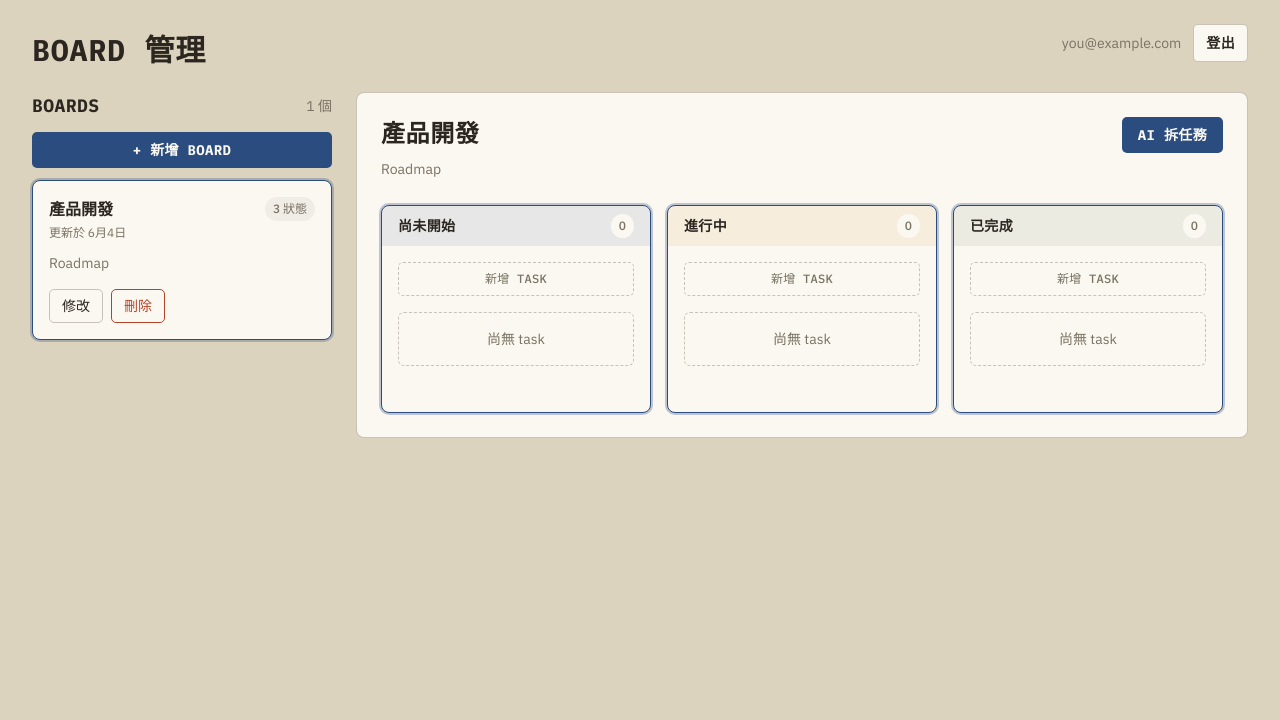
Test: BoardPage integration › creates a task in a board status column and saves it to local storage
Expected: the 1st heading "產品開發" is shown, [381,117,479,149]
Click the button "新增 task" below "尚未開始" at (516, 279), box [398,262,634,296]
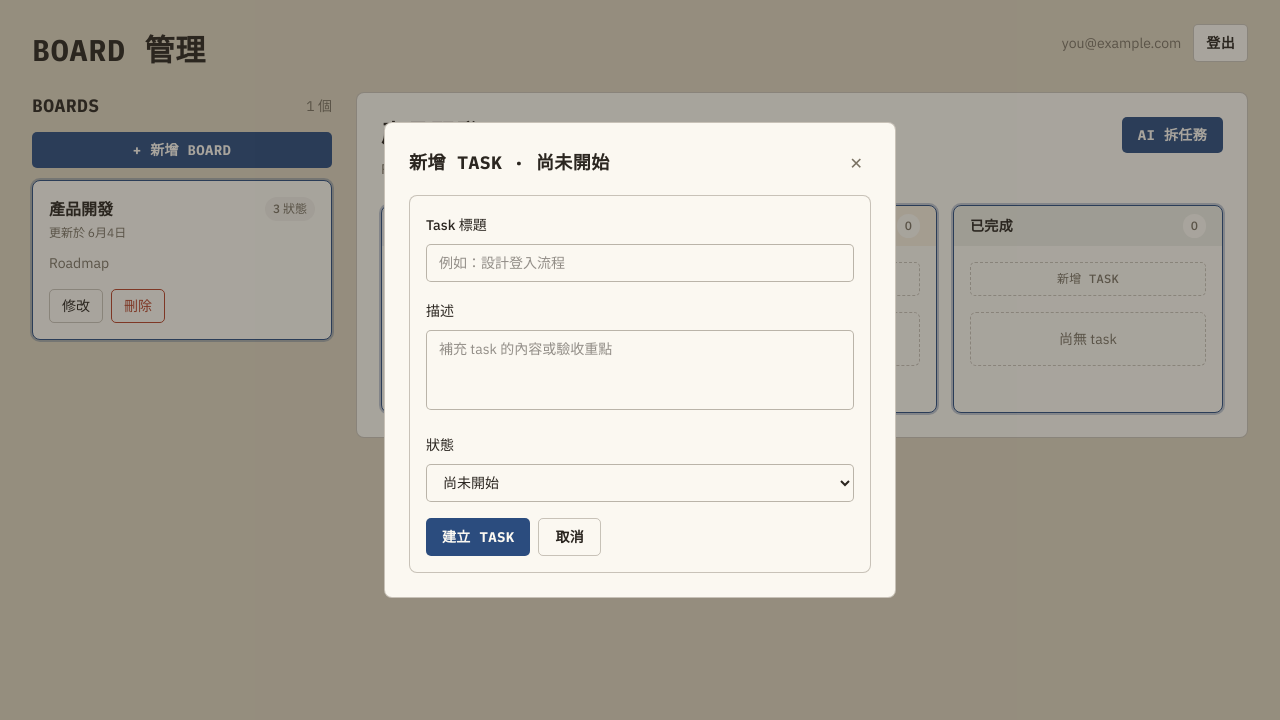
Type "設計登入流程" into the field labelled "Task 標題" at (640, 263), box [426,244,854,282]
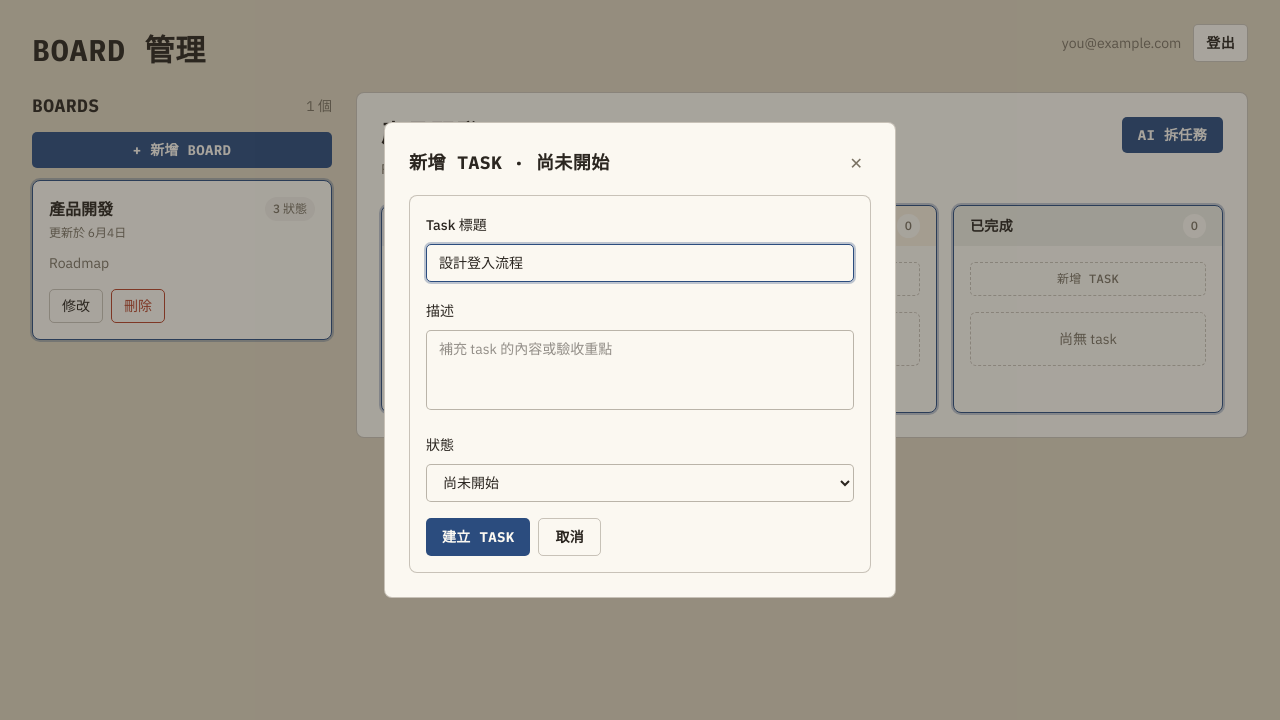
Type "Login UX" into the text box labelled "描述" at (640, 370), box [426,330,854,410]
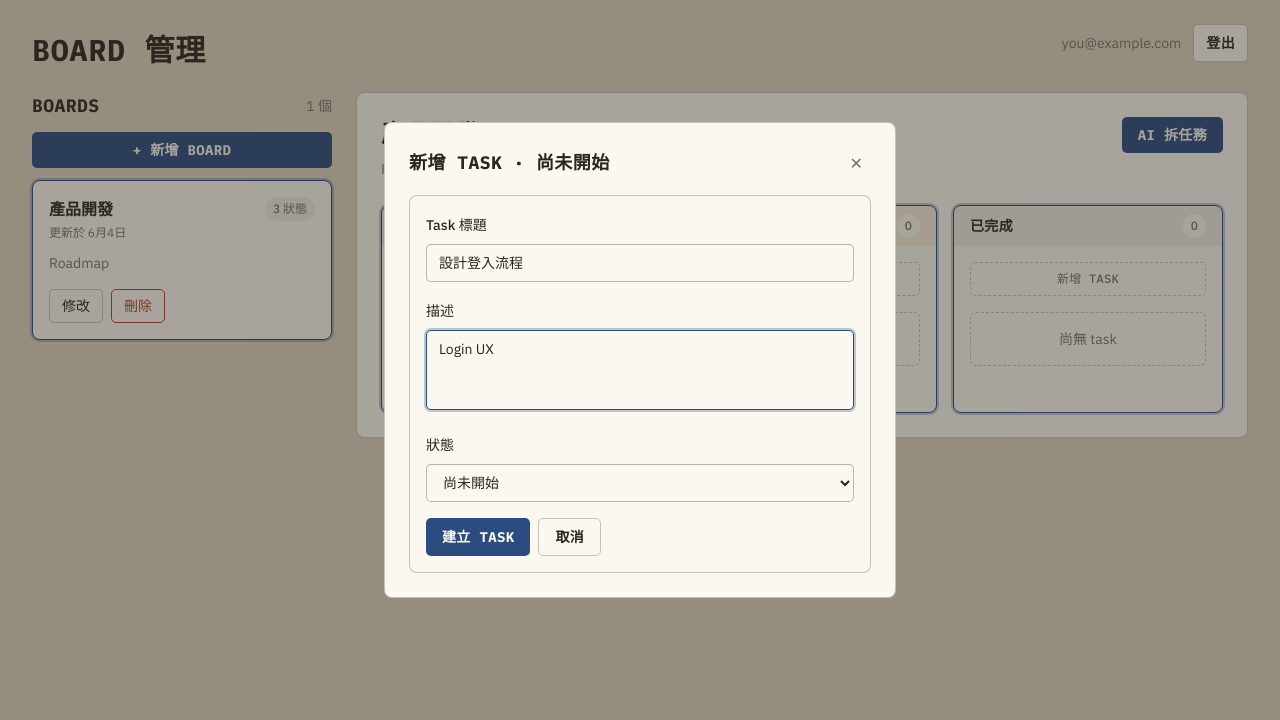
Click the button "建立 task" at (478, 537), box [426,518,530,556]
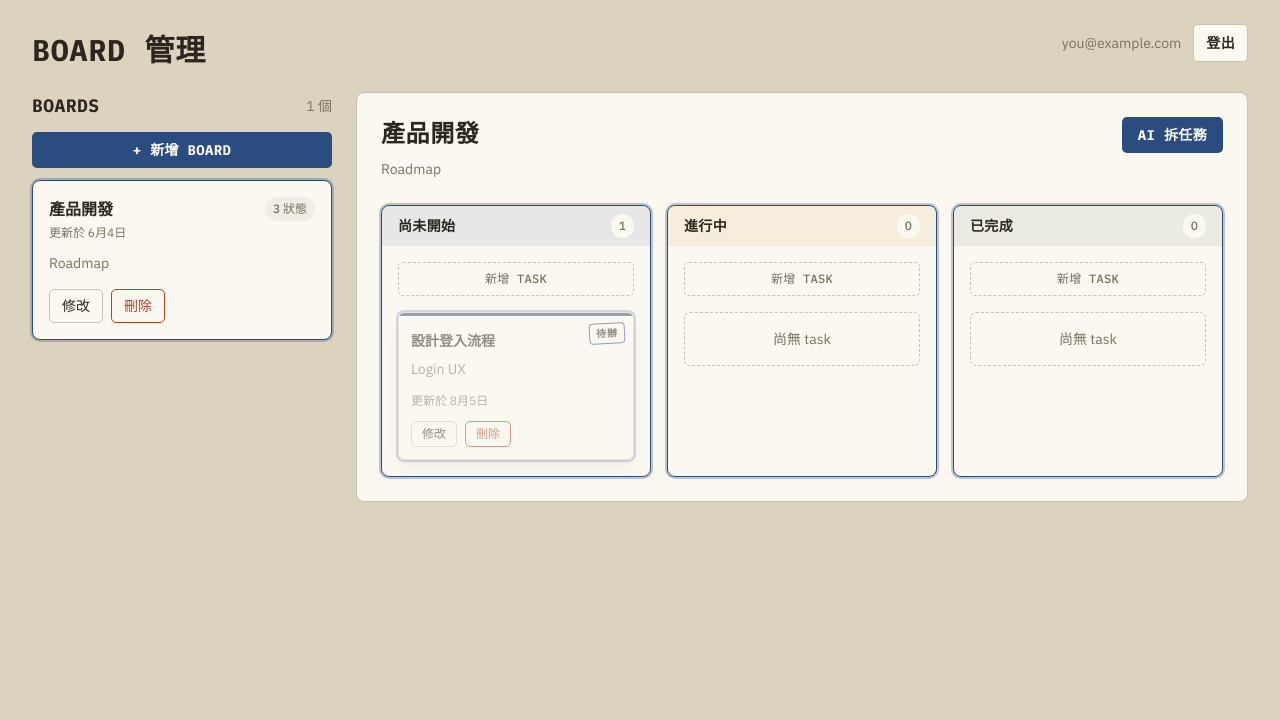
Expected: the element named "Task 設計登入流程" is shown, [398,312,634,460]
